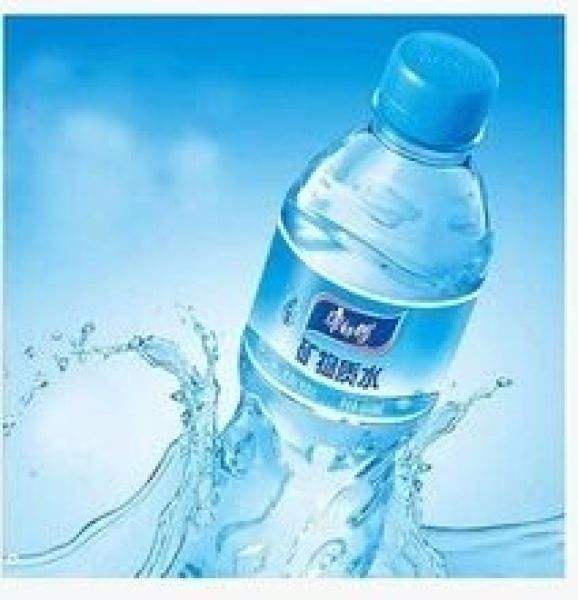amwater: (190, 26, 519, 572)
